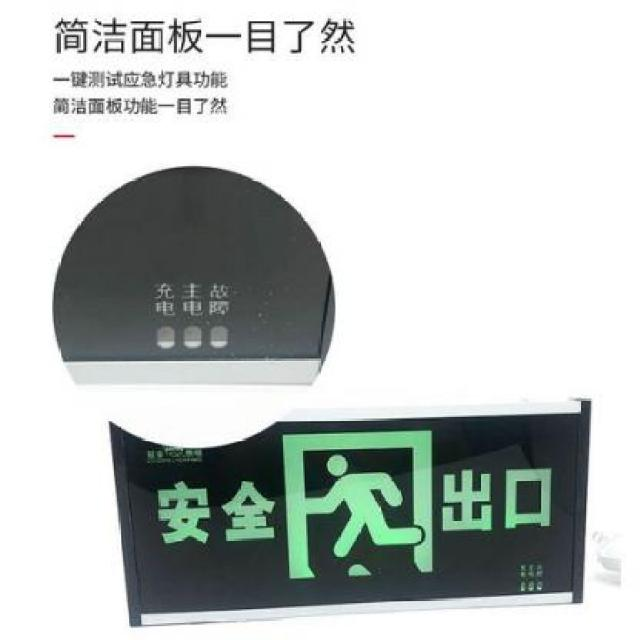exit_sign: (88, 402, 586, 624)
